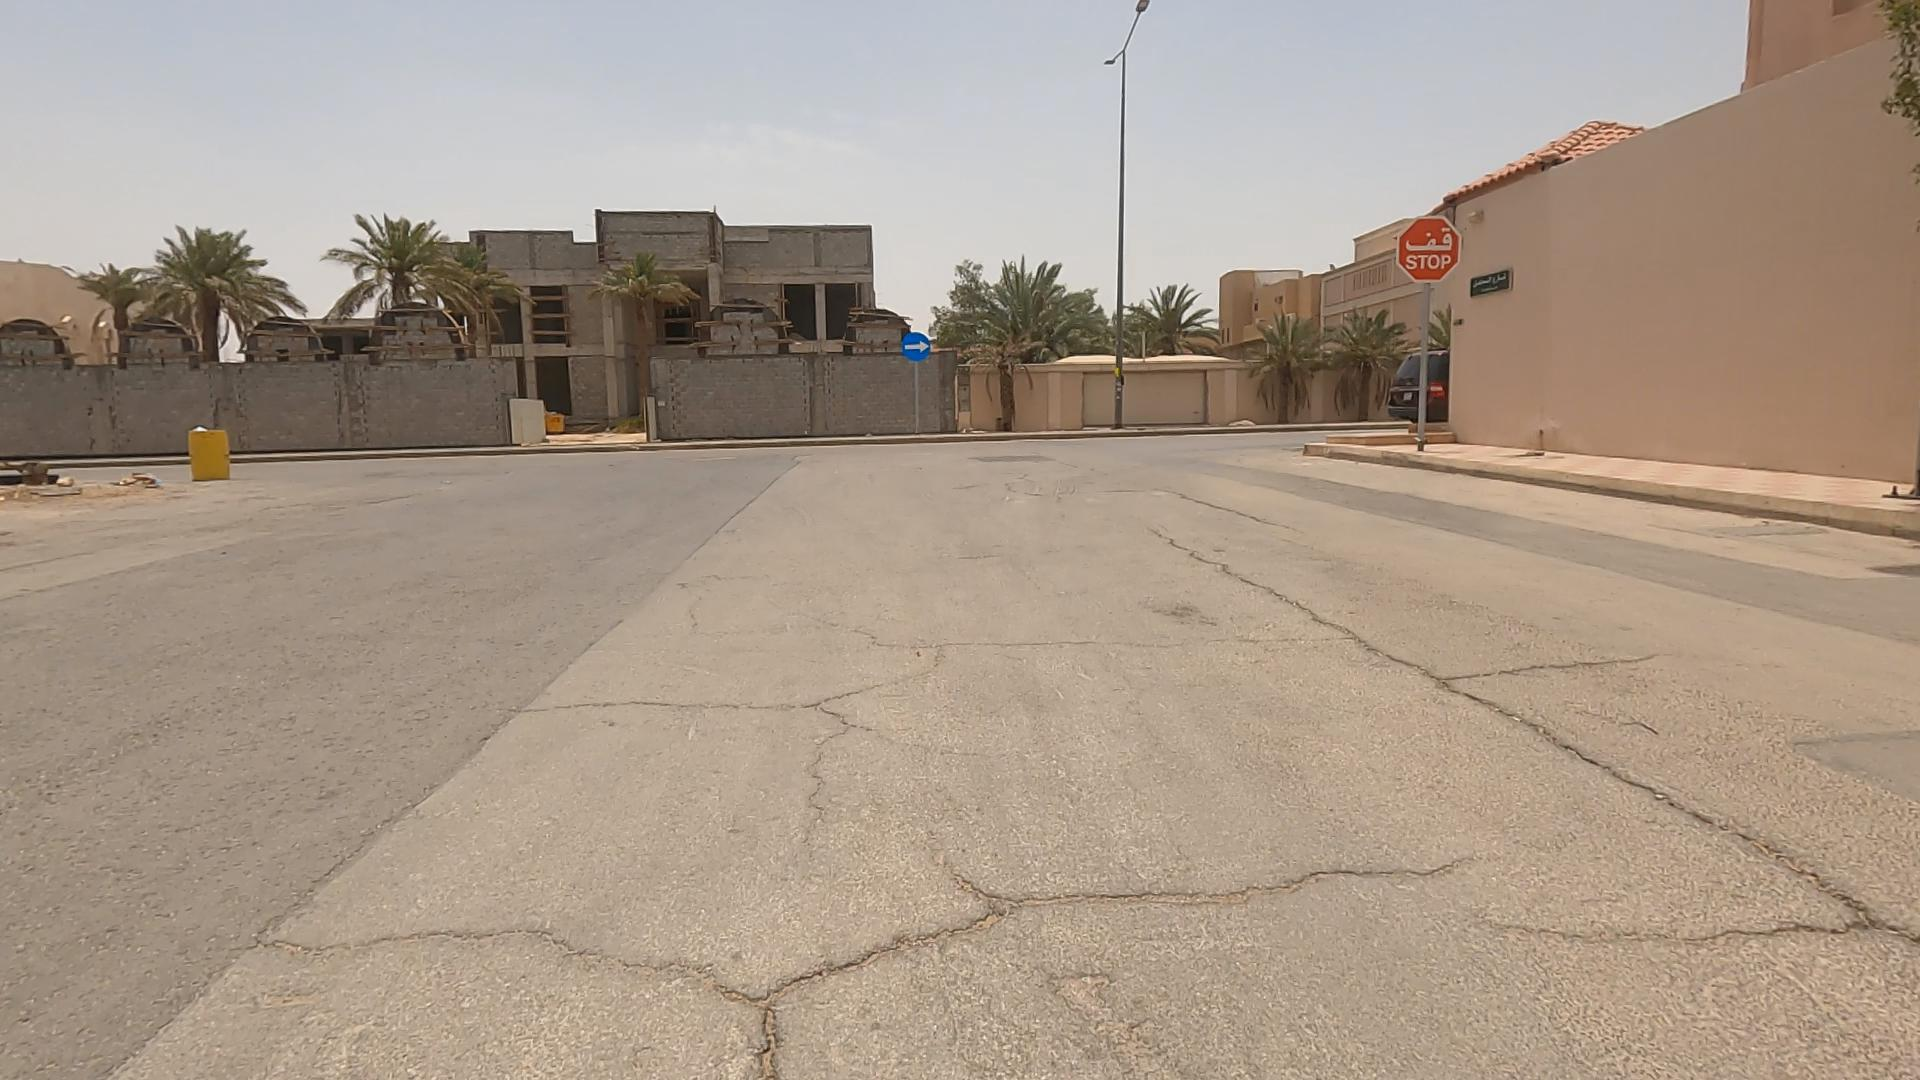GARBAGE: (0, 425, 250, 544)
